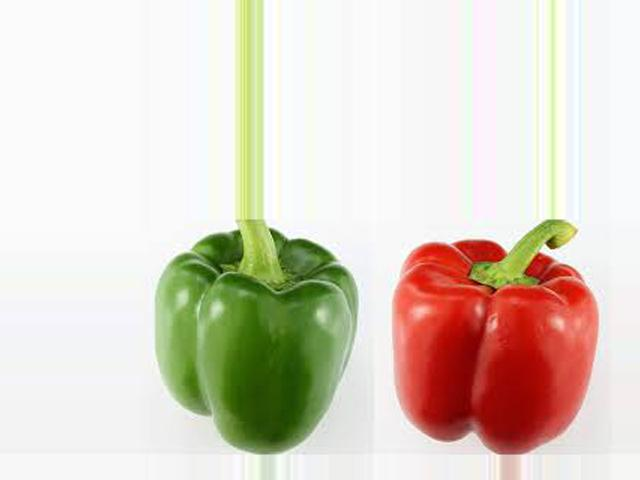bell_pepper: (146, 221, 365, 444)
